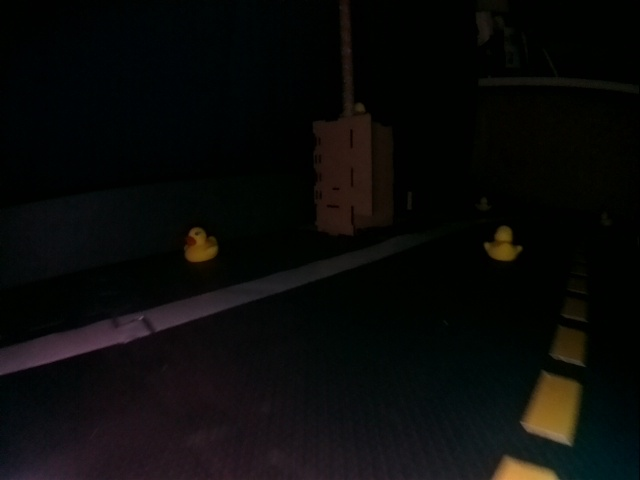Duckie: (484, 225, 521, 264), (183, 227, 220, 262), (476, 197, 491, 212)
